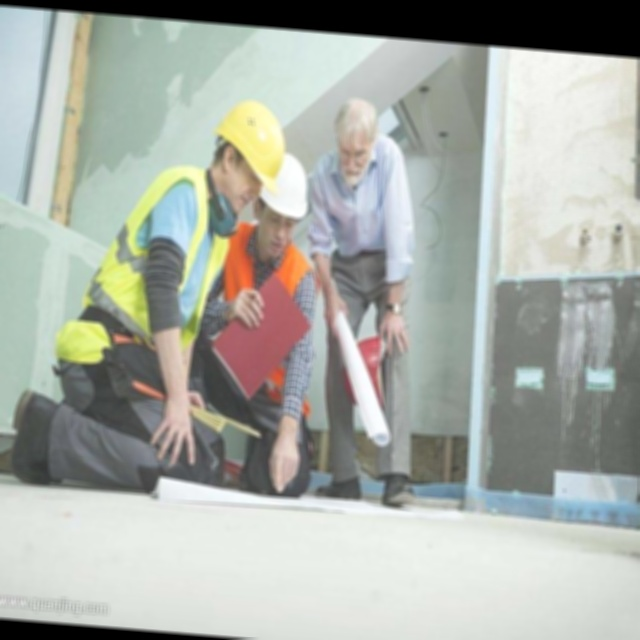Con_Casco: (210, 98, 283, 215)
Sin_Casco_Mascarrilla: (331, 94, 383, 179)
